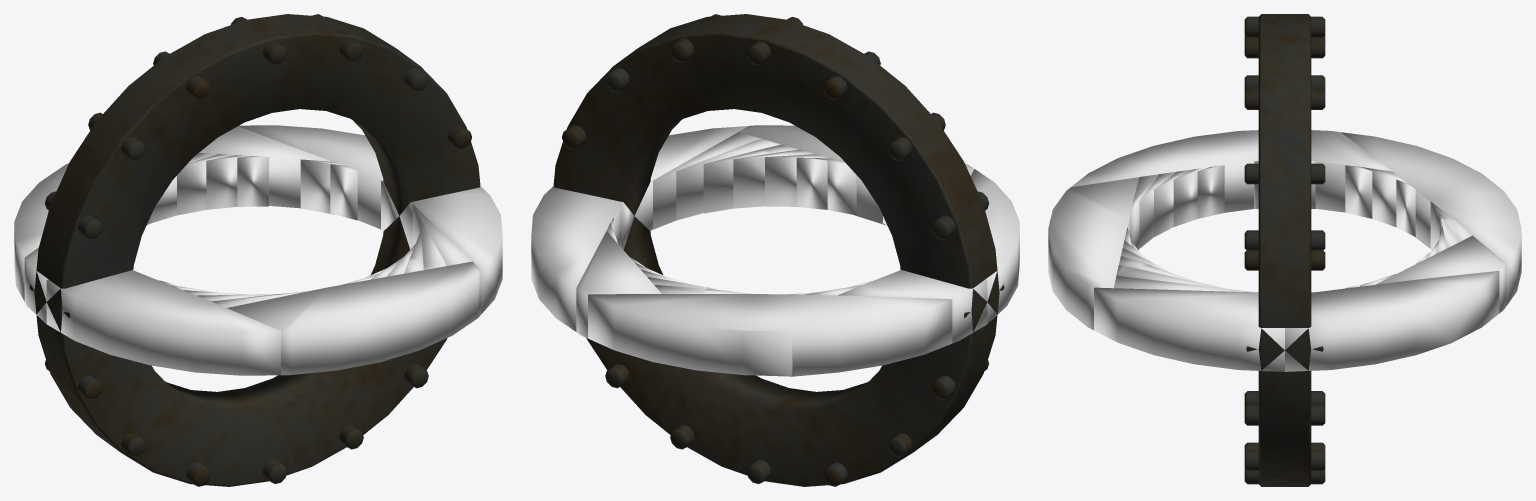
The model's file is SM_Pipes_Large_Ring.fbx.
3 renders of one model, left to right at view 1: azimuth 30°, elevation 25°; view 2: azimuth 150°, elevation 25°; view 3: azimuth 270°, elevation 25°, orthographic. The views are drawn at different scales.
Parts seen in each view (by area): view 1: SM_Pipes_Large_Ring, SM_Pipes_Large_Ring_ConvexHulls; view 2: SM_Pipes_Large_Ring, SM_Pipes_Large_Ring_ConvexHulls; view 3: SM_Pipes_Large_Ring_ConvexHulls, SM_Pipes_Large_Ring.
Part boxes in pixels (x1,y1,x2,y2): SM_Pipes_Large_Ring: (29, 14, 480, 486); SM_Pipes_Large_Ring_ConvexHulls: (14, 125, 502, 375); SM_Pipes_Large_Ring: (553, 14, 1004, 486); SM_Pipes_Large_Ring_ConvexHulls: (531, 125, 1019, 376); SM_Pipes_Large_Ring_ConvexHulls: (1048, 130, 1521, 371); SM_Pipes_Large_Ring: (1244, 14, 1325, 486).
Size of the model in its own units: 0.9005 by 0.9005 by 0.9005.
